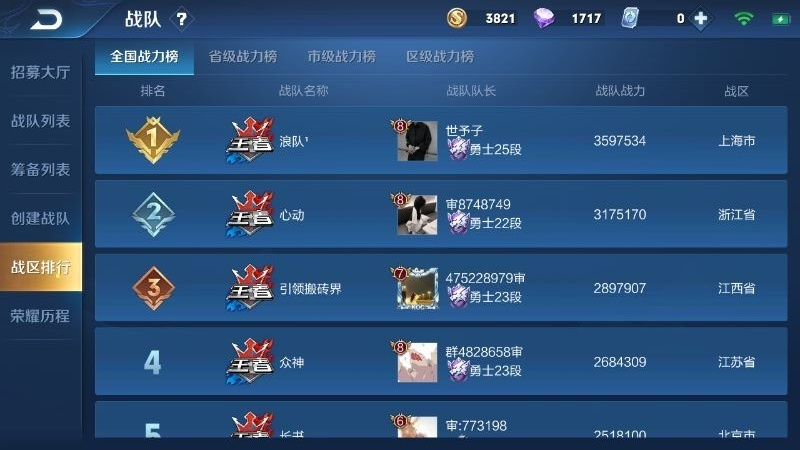return: (15, 4, 84, 32)
tag: (1, 195, 75, 236), (1, 147, 76, 185), (2, 49, 75, 87), (400, 39, 484, 71), (295, 40, 384, 69), (4, 103, 76, 138), (208, 40, 277, 66)
